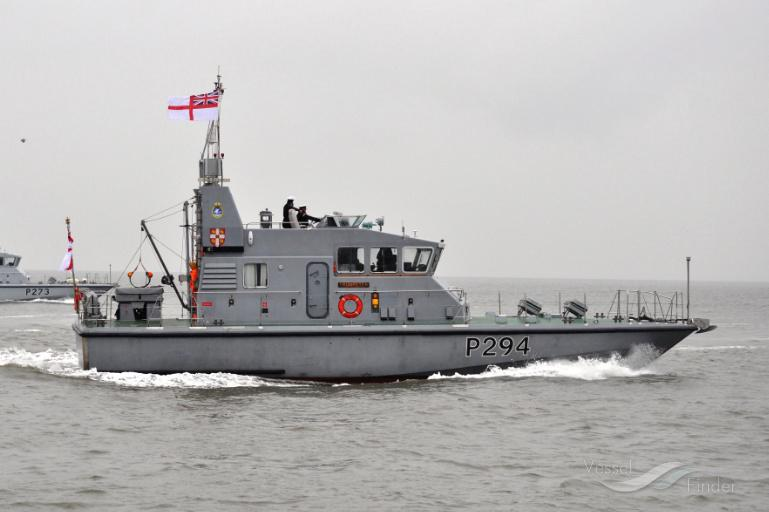OCR: (460, 334, 534, 362)
